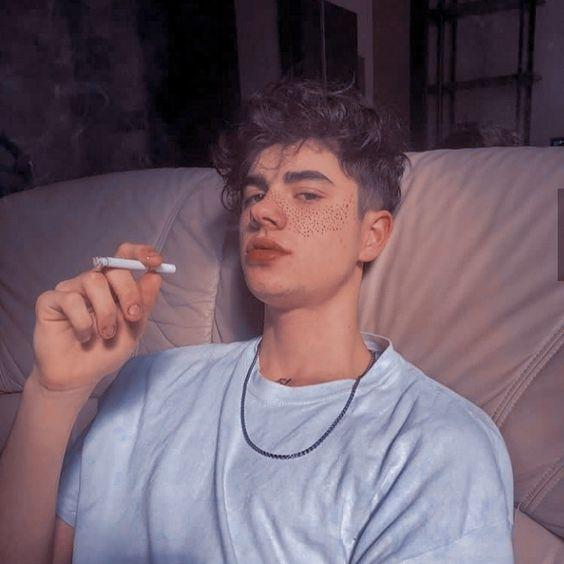cigarette: (90, 256, 176, 272)
